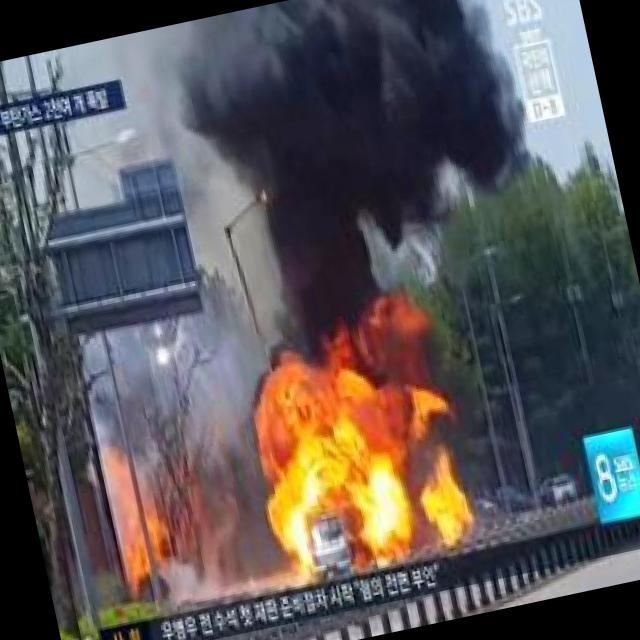Fire: (223, 308, 488, 592), (106, 479, 178, 594)
Smoke: (163, 0, 550, 344)
